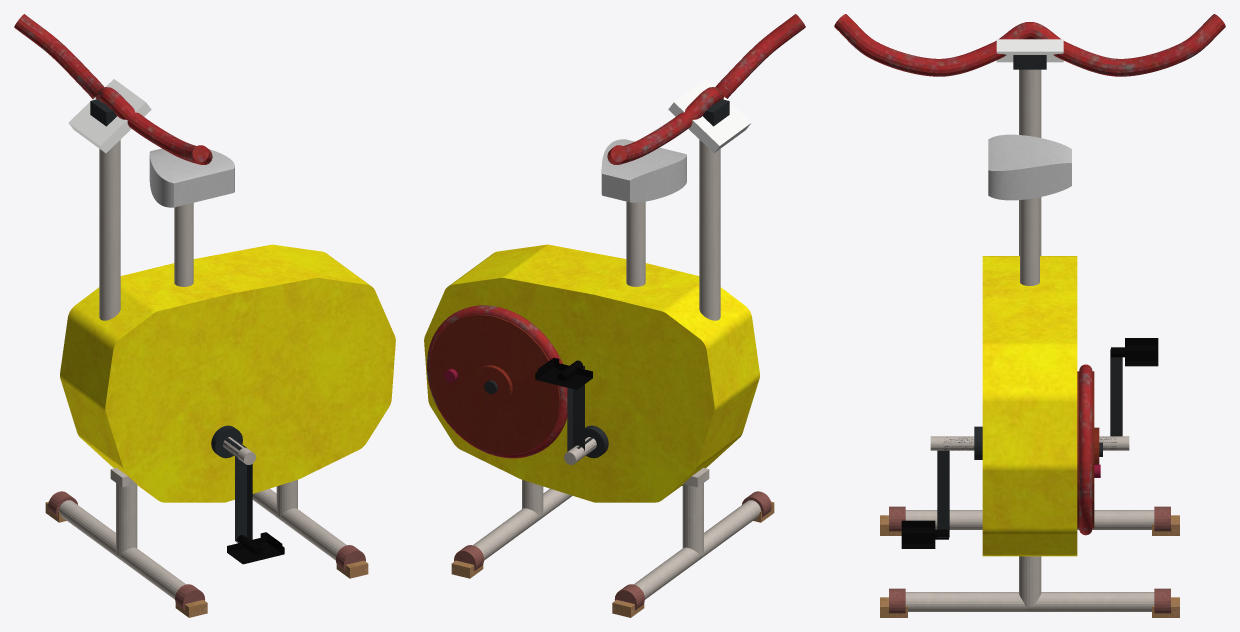
Rendered from Sports_Exercise_bike__0000.glb.
3 views of the same model, side by side, from view 1: azimuth 30°, elevation 25°; view 2: azimuth 150°, elevation 25°; view 3: azimuth 270°, elevation 25° (orthographic). The views are drawn at different scales.
Parts seen in each view (by area): view 1: body::body_shroud, handlebar_post::handlebar_tube, saddle_post::saddle_pad, handlebar_post::handlebar_post_tube, stabilizer_foot_1::stabilizer_tube, handlebar_post::console_pad, stabilizer_foot_0::stabilizer_tube, saddle_post::saddle_post_tube, crank::crank_body, stabilizer_foot_1::foot_leg, right_pedal::pedal_tread, stabilizer_foot_0::foot_leg (+1 smaller); view 2: body::body_shroud, flywheel::flywheel_disc, handlebar_post::handlebar_tube, saddle_post::saddle_pad, handlebar_post::handlebar_post_tube, flywheel::flywheel_red_ring, stabilizer_foot_1::stabilizer_tube, handlebar_post::console_pad, stabilizer_foot_0::stabilizer_tube, saddle_post::saddle_post_tube, stabilizer_foot_1::foot_leg, left_pedal::pedal_tread (+2 smaller); view 3: body::body_shroud, handlebar_post::handlebar_tube, saddle_post::saddle_pad, stabilizer_foot_0::stabilizer_tube, flywheel::flywheel_red_ring, stabilizer_foot_1::stabilizer_tube, crank::crank_body, saddle_post::saddle_post_tube, handlebar_post::handlebar_post_tube, handlebar_post::console_pad, right_pedal::pedal_tread, left_pedal::pedal_tread (+3 smaller).
Part boxes in pixels (left/top/right/bottom): body::body_shroud: left=60, top=244, right=395, bottom=502; handlebar_post::handlebar_tube: left=14, top=14, right=212, bottom=164; saddle_post::saddle_pad: left=149, top=148, right=234, bottom=207; handlebar_post::handlebar_post_tube: left=99, top=140, right=120, bottom=320; stabilizer_foot_1::stabilizer_tube: left=59, top=500, right=185, bottom=599; handlebar_post::console_pad: left=68, top=79, right=151, bottom=152; stabilizer_foot_0::stabilizer_tube: left=252, top=488, right=346, bottom=560; saddle_post::saddle_post_tube: left=174, top=203, right=193, bottom=286; crank::crank_body: left=223, top=437, right=252, bottom=542; stabilizer_foot_1::foot_leg: left=116, top=470, right=137, bottom=555; right_pedal::pedal_tread: left=227, top=532, right=284, bottom=564; stabilizer_foot_0::foot_leg: left=276, top=480, right=297, bottom=516; body::body_shroud: left=424, top=244, right=759, bottom=502; flywheel::flywheel_disc: left=429, top=314, right=560, bottom=454; handlebar_post::handlebar_tube: left=607, top=14, right=805, bottom=164; saddle_post::saddle_pad: left=601, top=139, right=686, bottom=202; handlebar_post::handlebar_post_tube: left=699, top=140, right=720, bottom=320; flywheel::flywheel_red_ring: left=427, top=305, right=567, bottom=458; stabilizer_foot_1::stabilizer_tube: left=634, top=500, right=760, bottom=599; handlebar_post::console_pad: left=668, top=79, right=751, bottom=152; stabilizer_foot_0::stabilizer_tube: left=473, top=488, right=572, bottom=560; saddle_post::saddle_post_tube: left=626, top=201, right=645, bottom=286; stabilizer_foot_1::foot_leg: left=682, top=468, right=703, bottom=555; left_pedal::pedal_tread: left=535, top=357, right=592, bottom=389; body::body_shroud: left=982, top=256, right=1077, bottom=556; handlebar_post::handlebar_tube: left=834, top=14, right=1225, bottom=76; saddle_post::saddle_pad: left=988, top=134, right=1071, bottom=200; stabilizer_foot_0::stabilizer_tube: left=905, top=592, right=1154, bottom=611; flywheel::flywheel_red_ring: left=1079, top=364, right=1092, bottom=535; stabilizer_foot_1::stabilizer_tube: left=905, top=510, right=1154, bottom=529; crank::crank_body: left=937, top=349, right=1122, bottom=537; saddle_post::saddle_post_tube: left=1020, top=197, right=1039, bottom=285; handlebar_post::handlebar_post_tube: left=1019, top=69, right=1041, bottom=255; handlebar_post::console_pad: left=996, top=39, right=1063, bottom=62; right_pedal::pedal_tread: left=901, top=520, right=948, bottom=548; left_pedal::pedal_tread: left=1111, top=338, right=1158, bottom=366.
Size of the model in its own units: 0.6289 by 1.01 by 0.702.
11 materials, 9 textured.
